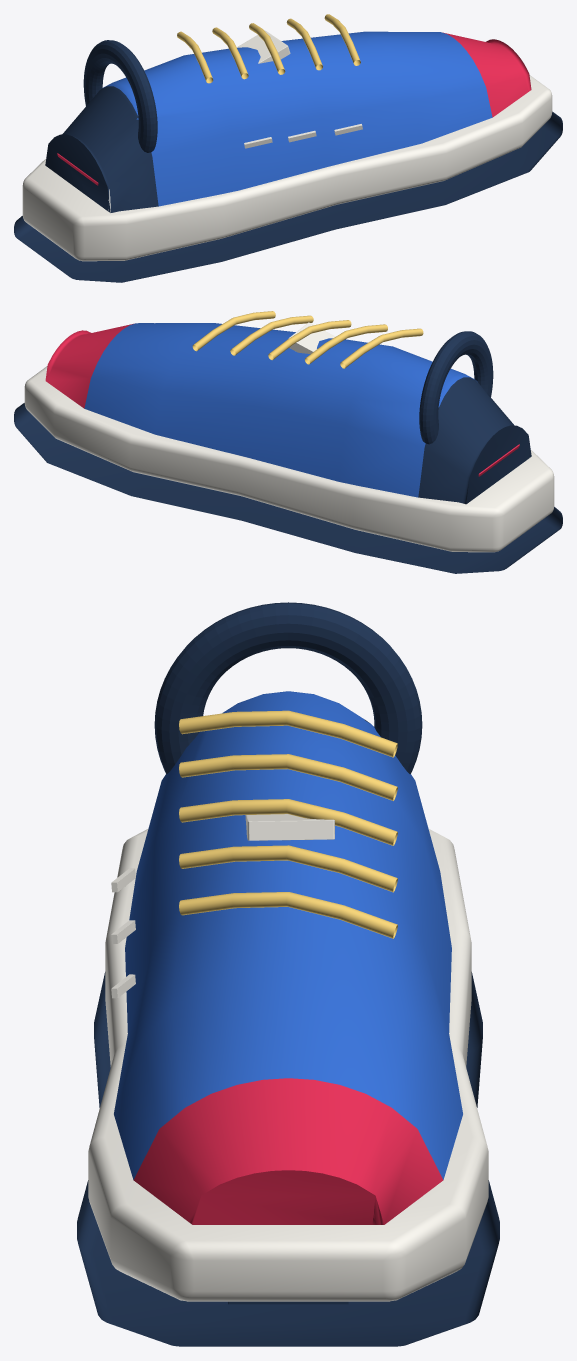
The model's file is run-route-shoe.glb.
3 views of the same model, one above another, from view 1: azimuth 30°, elevation 25°; view 2: azimuth 150°, elevation 25°; view 3: azimuth 270°, elevation 25° (orthographic). The views are drawn at different scales.
Visible parts, largest first — view 1: Breathable upper, Responsive foam midsole, Road grip outsole, Padded heel collar, Running tongue, Cross lace 4, Cross lace 1, Cross lace 2, Cross lace 3, Cross lace 5; view 2: Breathable upper, Responsive foam midsole, Road grip outsole, Padded heel collar, Cross lace 1, Cross lace 3, Cross lace 2, Cross lace 5, Cross lace 4, Running tongue; view 3: Breathable upper, Responsive foam midsole, Road grip outsole, Padded heel collar, Cross lace 4, Cross lace 2, Cross lace 1, Cross lace 5, Cross lace 3, Running tongue.
Boxes of the visible parts, x1,y1,x2,y2 form: Breathable upper: (45,31,531,212); Responsive foam midsole: (22,75,552,261); Road grip outsole: (14,111,562,282); Padded heel collar: (83,40,157,152); Running tongue: (236,30,290,63); Cross lace 4: (286,18,322,70); Cross lace 1: (177,31,213,83); Cross lace 2: (212,27,248,79); Cross lace 3: (249,23,285,74); Cross lace 5: (324,14,360,65); Breathable upper: (45,323,531,504); Responsive foam midsole: (24,366,554,552); Road grip outsole: (14,403,562,573); Padded heel collar: (419,331,493,444); Cross lace 1: (340,328,423,368); Cross lace 3: (268,320,351,360); Cross lace 2: (305,324,387,364); Cross lace 5: (192,311,275,351); Cross lace 4: (230,315,313,355); Running tongue: (288,322,335,353); Breathable upper: (114,691,462,1224); Responsive foam midsole: (88,829,488,1301); Road grip outsole: (77,972,499,1346); Padded heel collar: (154,602,422,773); Cross lace 4: (179,845,397,892); Cross lace 2: (179,754,397,800); Cross lace 1: (179,710,397,757); Cross lace 5: (179,892,397,938); Cross lace 3: (179,799,397,845); Running tongue: (245,814,334,840).
Bounding box in the file's own units: 4.05 × 1.58 × 1.5.
